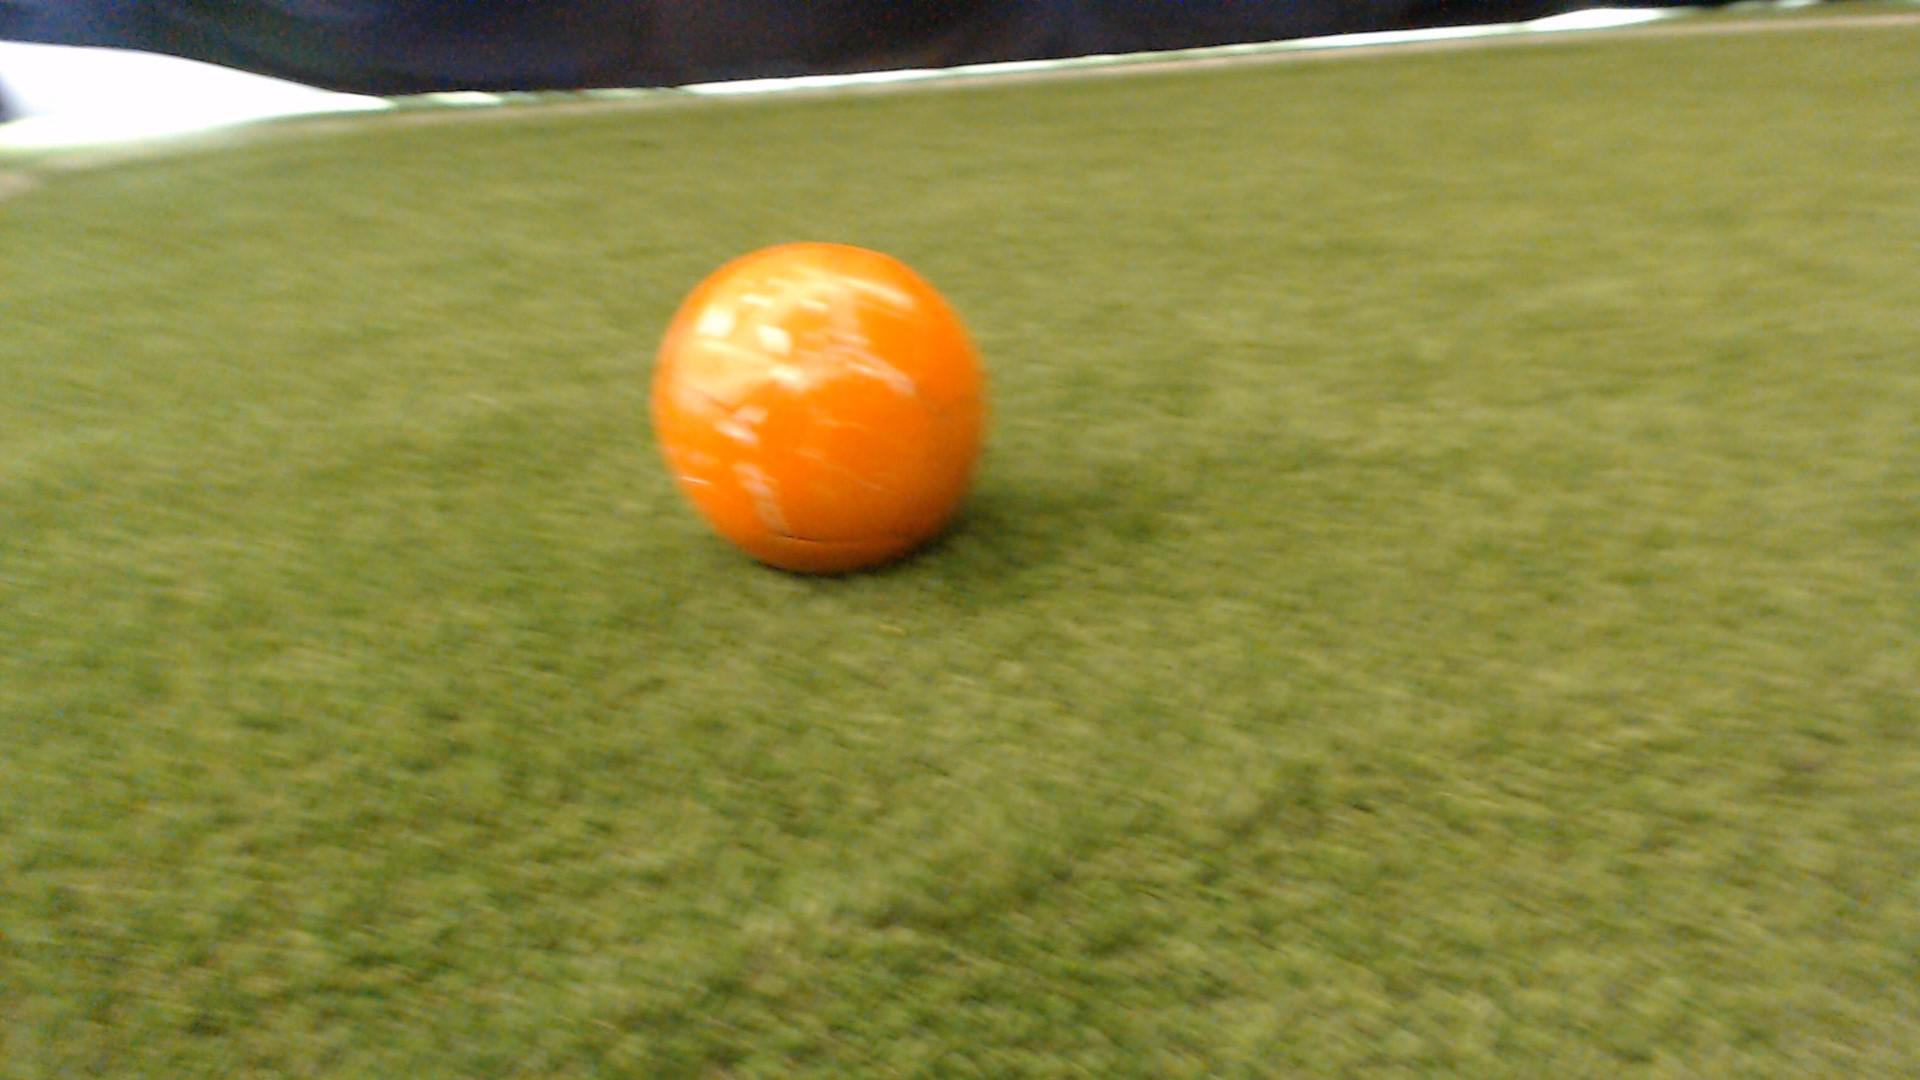bola: (634, 236, 1027, 582)
